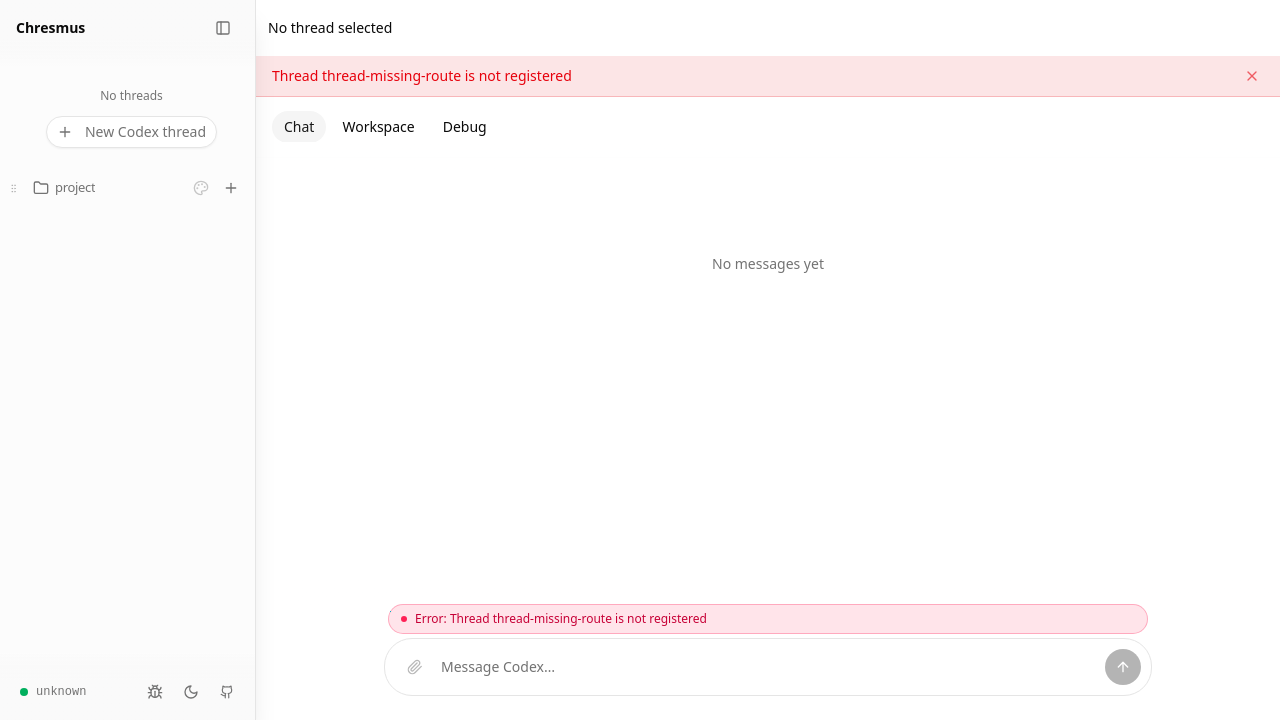
Test case: App › does not auto-switch to another listed thread when route thread is missing
Click the button "project" at {"x": 104, "y": 188}, box [21, 176, 187, 200]
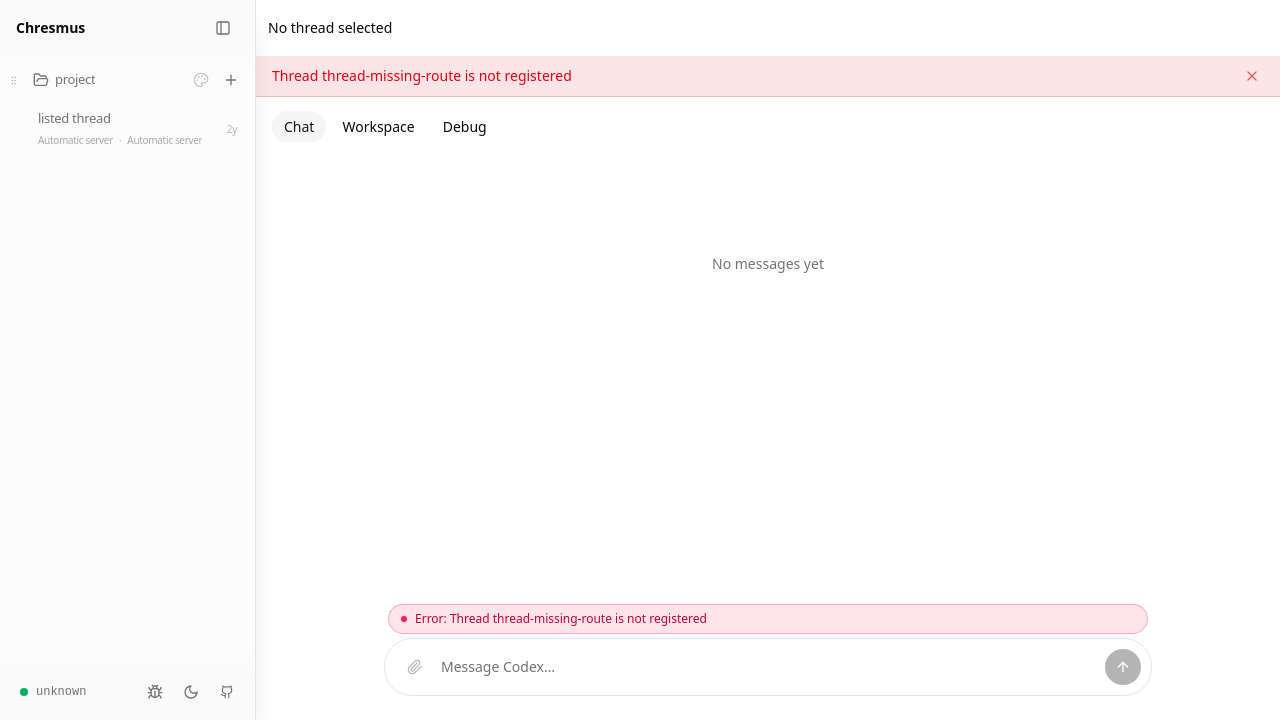
Expected: the text "listed thread" is shown, [38, 109, 111, 127]
